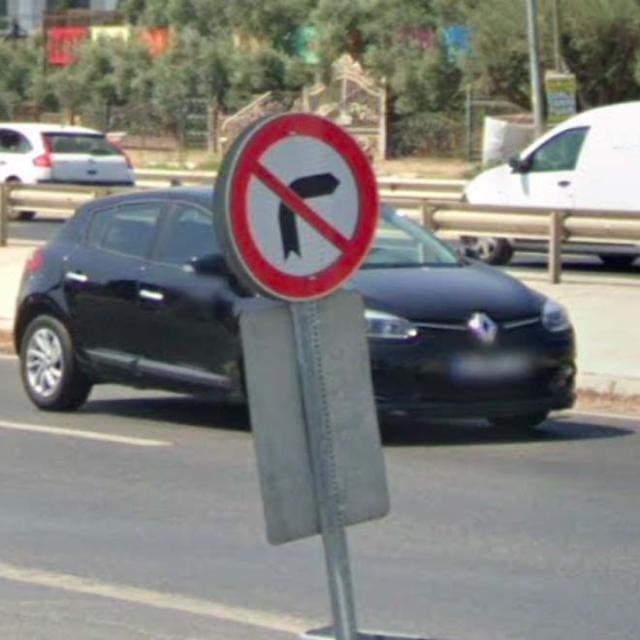sagadonulmez: (226, 110, 379, 298)
